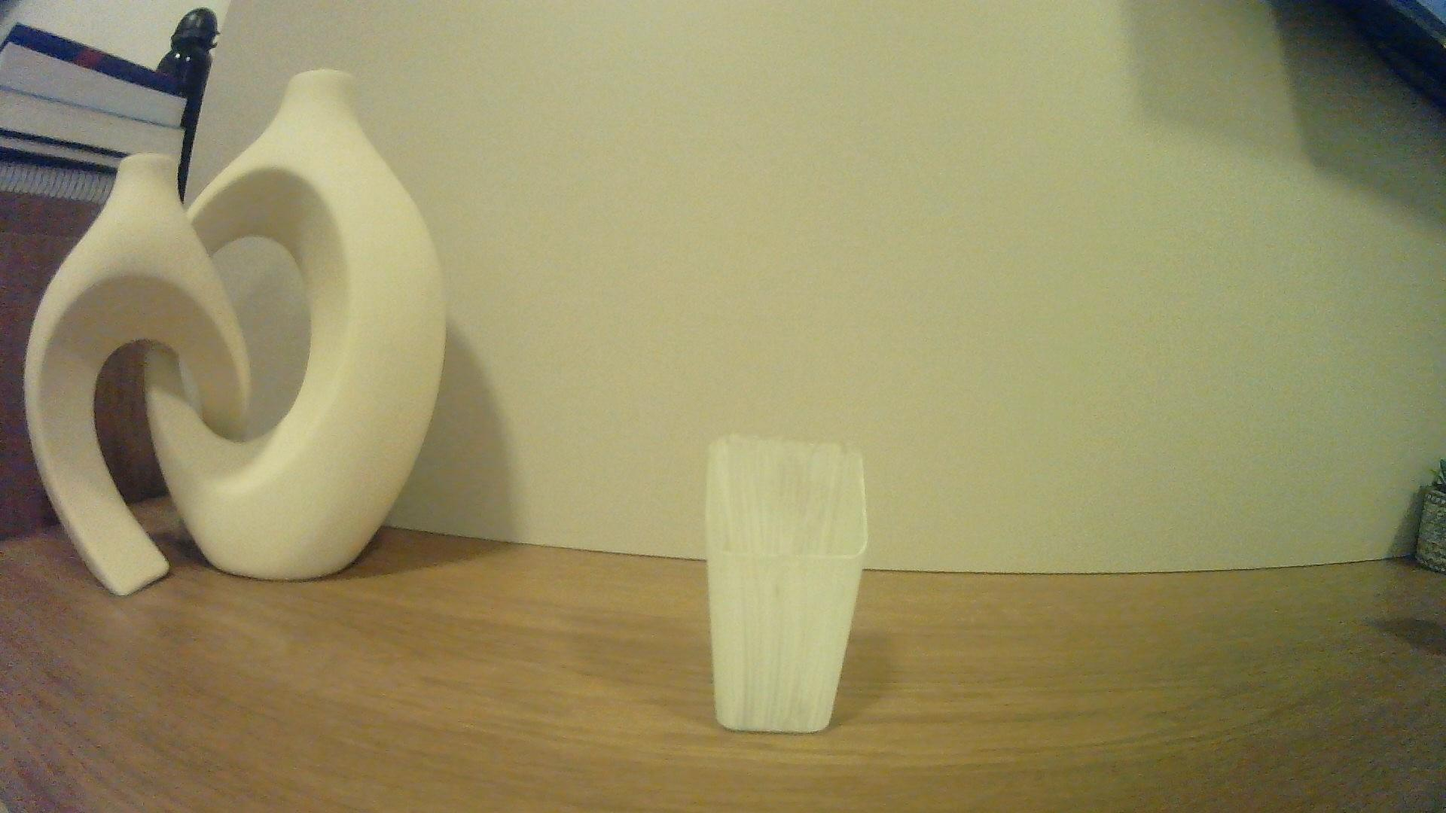erva_daninha: (697, 432, 875, 736)
